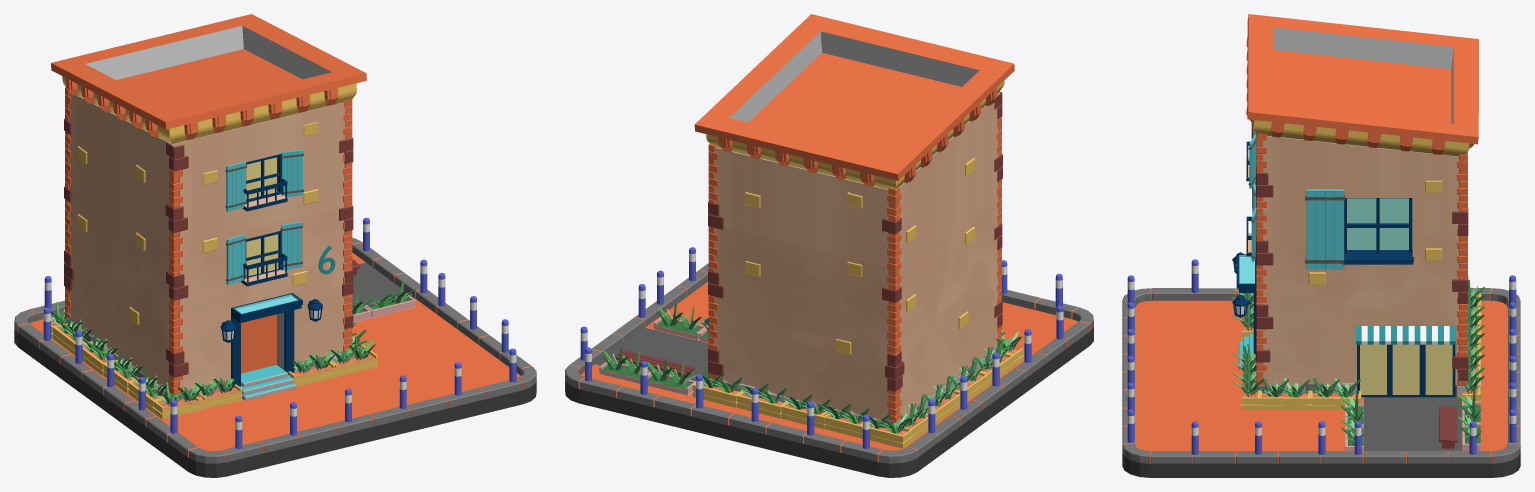
File: lv2_house_3.fbx
3 renders of one model, left to right at view 1: azimuth 30°, elevation 25°; view 2: azimuth 150°, elevation 25°; view 3: azimuth 270°, elevation 25°, orthographic.
Visible parts, largest first — view 1: lv2house_3, basehouse_lv2_3, fence_lv2_L_3; view 2: lv2house_3, basehouse_lv2_3, fence_lv2_R_3, fence_lv2_L_3, bench_lv2_3; view 3: lv2house_3, basehouse_lv2_3, fence_lv2_R_3, fence_lv2_L_3, bench_lv2_3.
Part boxes in pixels (<box>): lv2house_3: <box>43,14,377,419</box>; basehouse_lv2_3: <box>14,217,536,477</box>; fence_lv2_L_3: <box>352,282,416,322</box>; lv2house_3: <box>691,14,1023,448</box>; basehouse_lv2_3: <box>565,247,1093,477</box>; fence_lv2_R_3: <box>599,347,695,395</box>; fence_lv2_L_3: <box>653,303,708,342</box>; bench_lv2_3: <box>614,350,694,377</box>; lv2house_3: <box>1231,14,1485,410</box>; basehouse_lv2_3: <box>1122,259,1520,477</box>; fence_lv2_R_3: <box>1458,388,1481,450</box>; fence_lv2_L_3: <box>1341,390,1364,451</box>; bench_lv2_3: <box>1439,406,1457,448</box>.
Size of the model in its own units: 3052 by 2606 by 3052.
